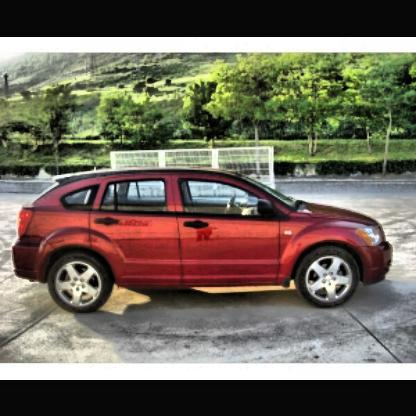Dodge Caliber Wagon 2007: (12, 167, 396, 313)
